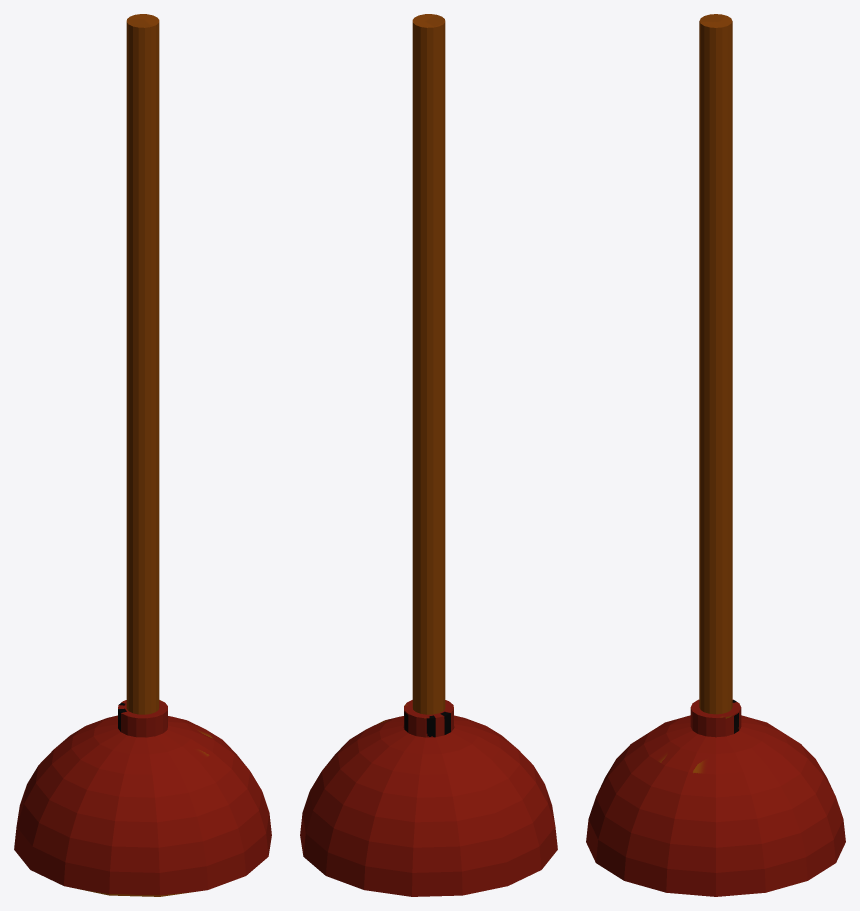
The model's file is plug.glb.
3 renders of one model, left to right at view 1: azimuth 30°, elevation 25°; view 2: azimuth 150°, elevation 25°; view 3: azimuth 270°, elevation 25°, orthographic.
Visible parts, largest first — view 1: Sphere; view 2: Sphere; view 3: Sphere.
Part boxes in pixels (x1,y1,x2,y2): Sphere: (14,14,271,896); Sphere: (300,14,557,896); Sphere: (586,14,845,896).
Size of the model in its own units: 2 by 6.98 by 2.
1 material, 1 textured.
